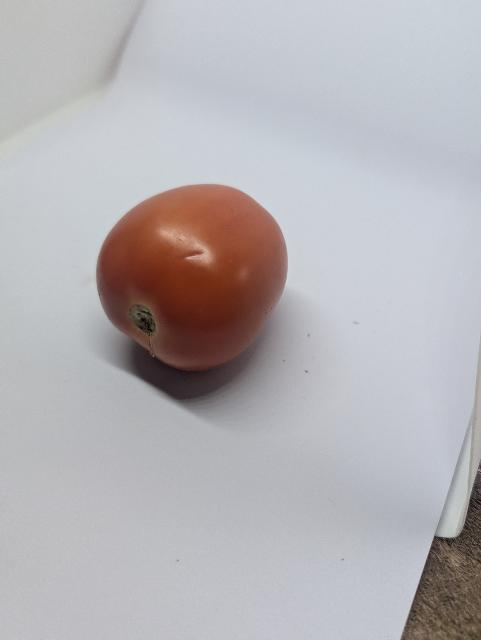red: (92, 181, 300, 380)
